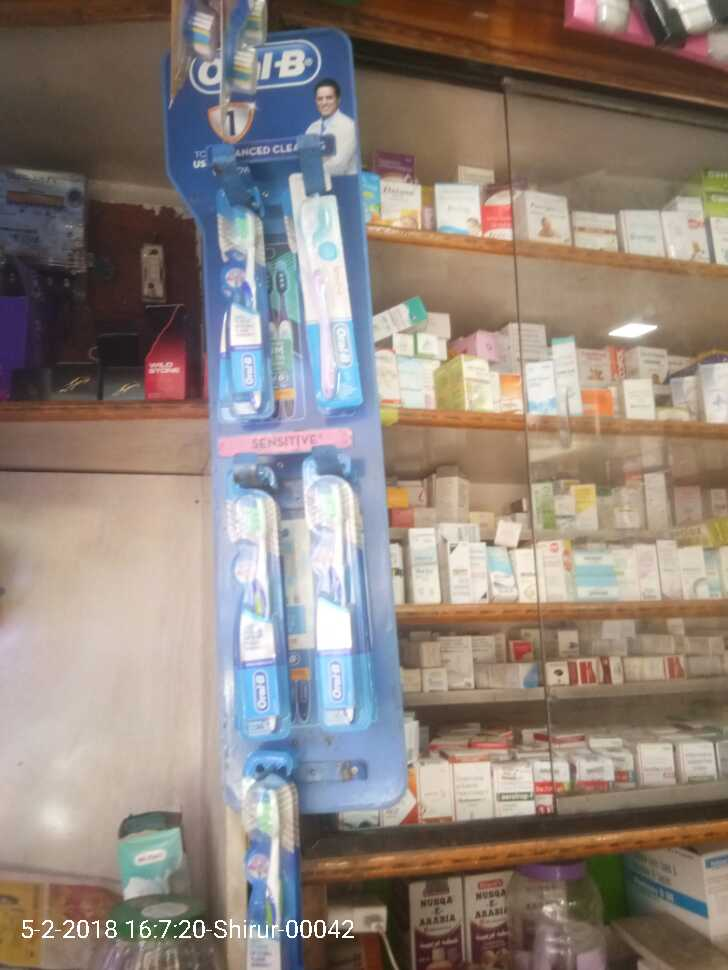oralb: (300, 452, 375, 731), (288, 168, 368, 412), (222, 465, 292, 738), (211, 184, 279, 422), (237, 749, 299, 970)
